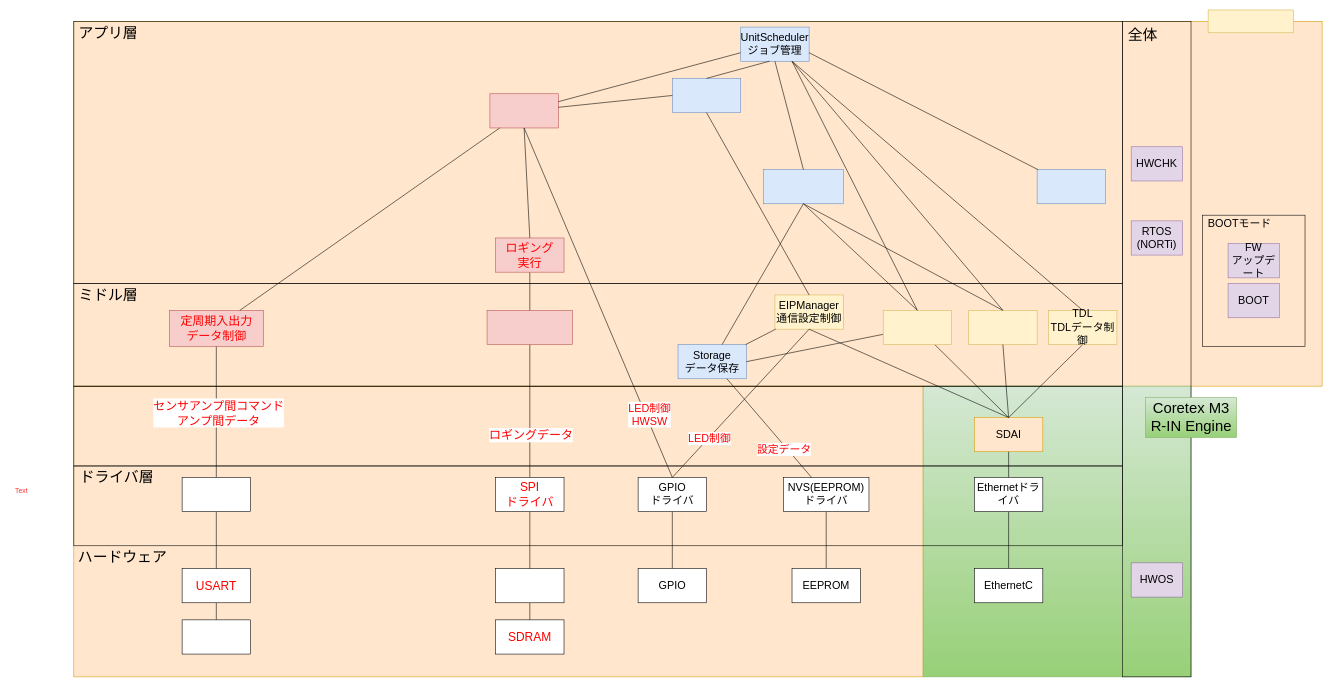
This 1332x687 diagram has some shape labels left out. Here are the shapes that lost their labels. From the top down, the box of each, then its label:
(1208, 9, 1294, 33): Coretex R4
(489, 93, 558, 128): アンプ データ制御
(672, 78, 741, 113): Initial 起動処理
(763, 169, 843, 204): UnitMgr ユニット管理データ制御
(1037, 169, 1106, 204): StatusMgr 通信状態更新
(486, 310, 573, 345): ロギングデータ 保存制御
(883, 310, 952, 345): TCPIP TCP/IPコマンド解析
(968, 310, 1037, 345): EM EMコマンド解析
(73, 386, 1123, 466): スタック層
(182, 477, 251, 512): UART ドライバ
(495, 568, 564, 603): SPI
(182, 619, 251, 654): RS485
